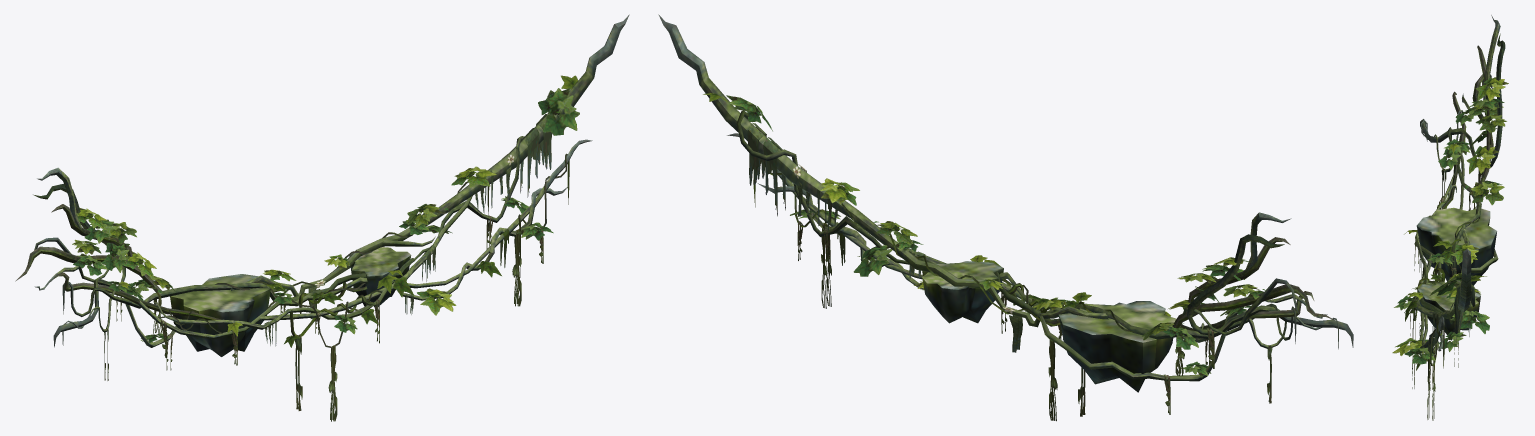
The model's file is jd_shanti_7.FBX.
3 renders of one model, left to right at view 1: azimuth 30°, elevation 25°; view 2: azimuth 150°, elevation 25°; view 3: azimuth 270°, elevation 25°, orthographic. The views are drawn at different scales.
Parts seen in each view (by area): view 1: jd_shanti_7; view 2: jd_shanti_7; view 3: jd_shanti_7.
Part boxes in pixels (x1,y1,x2,y2): jd_shanti_7: (15, 14, 629, 421); jd_shanti_7: (658, 14, 1353, 421); jd_shanti_7: (1392, 15, 1508, 420).
Size of the model in its own units: 60065 by 28804 by 12558.
